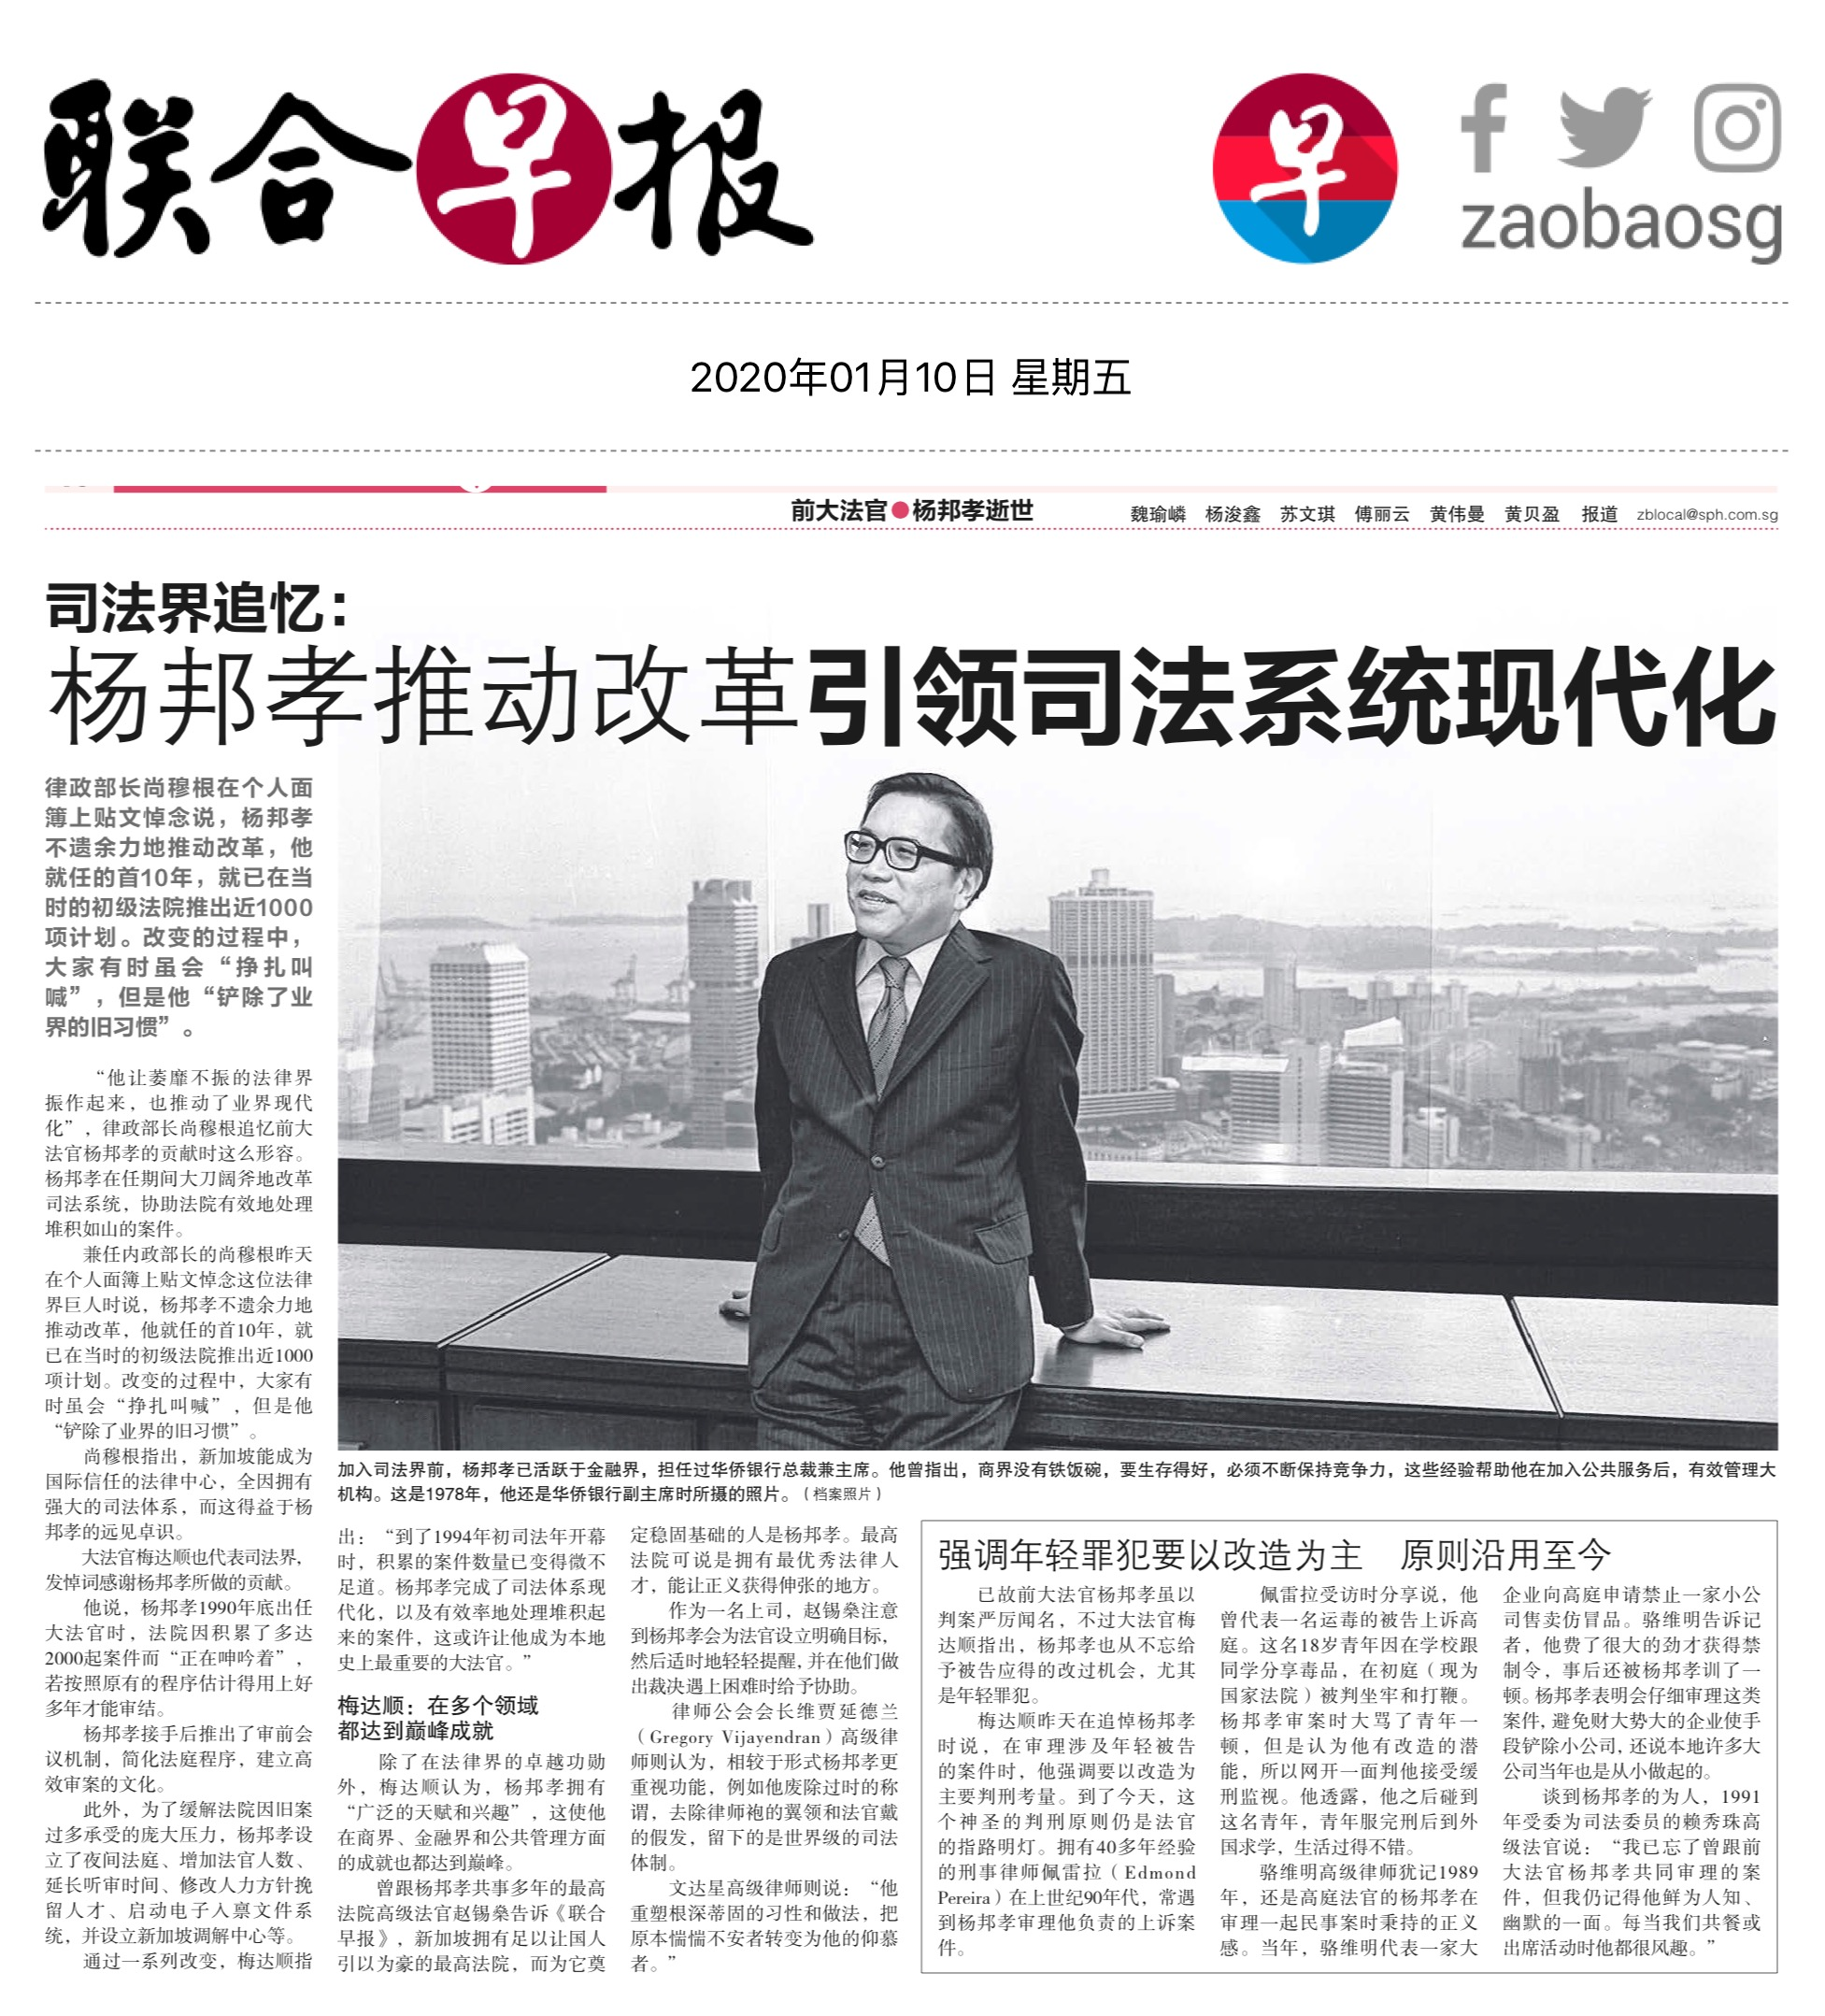heading: (39, 630, 1799, 759)
